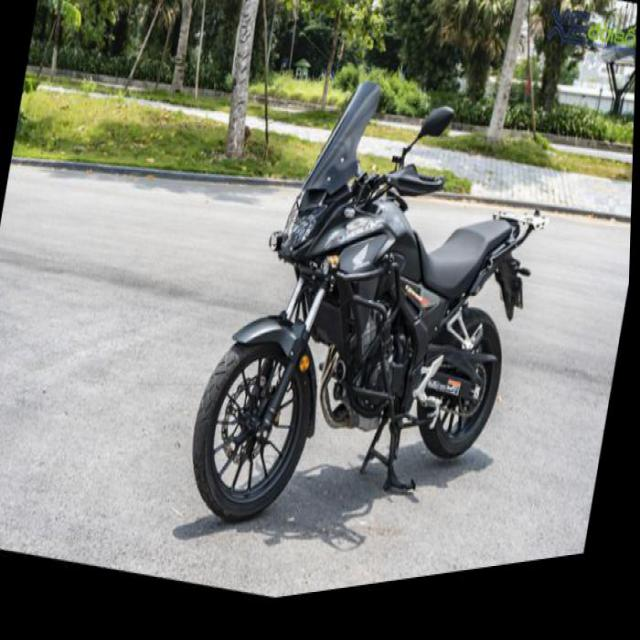CB500X: (180, 29, 564, 616)
